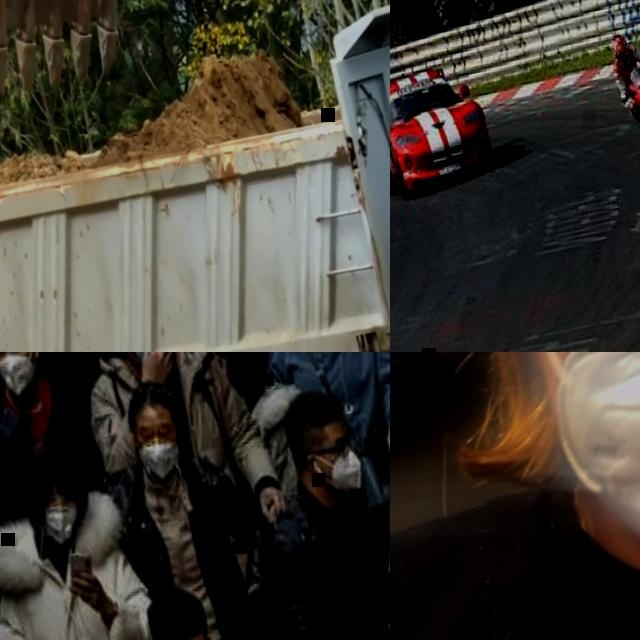Hardhat: (611, 35, 630, 67)
Mask: (533, 352, 640, 607), (135, 437, 184, 485), (323, 450, 367, 503), (0, 352, 44, 397), (43, 506, 83, 548), (123, 352, 178, 370)
NO-Hardhat: (21, 430, 87, 498), (277, 384, 347, 441), (142, 583, 211, 640), (123, 375, 180, 426)
NO-Safety Vest: (390, 410, 640, 640), (276, 497, 390, 640), (2, 540, 157, 640), (0, 401, 58, 640), (15, 377, 94, 468), (611, 52, 640, 90)
Person: (390, 352, 640, 640), (91, 361, 290, 640), (60, 352, 281, 600), (230, 368, 390, 640), (0, 420, 194, 640), (0, 352, 106, 640), (231, 352, 390, 525), (0, 352, 109, 520), (339, 352, 390, 640), (177, 352, 364, 408), (43, 352, 213, 410), (138, 575, 286, 640), (604, 29, 640, 141)
machinery: (0, 0, 390, 352), (0, 0, 166, 113)
vehicle: (390, 55, 500, 206)
